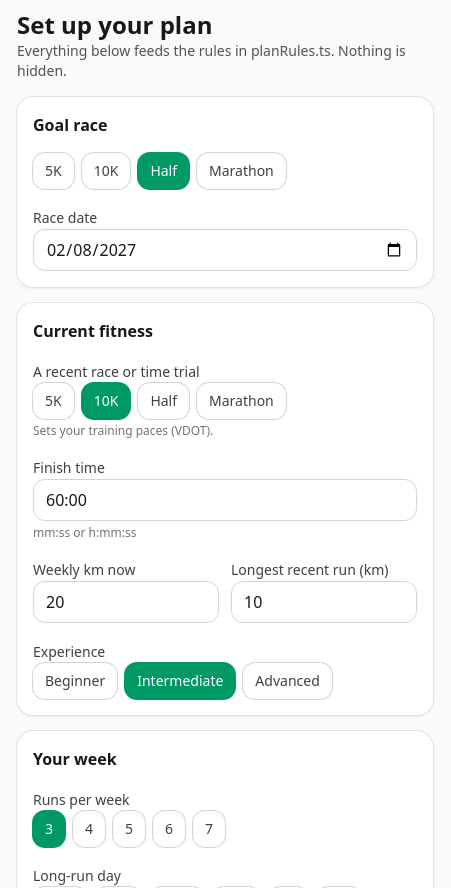
Scenario: first launch › blocks invalid input with a readable message
The width and height of the screenshot is (451, 888).
Replace the text in the field labelled "Finish time mm:ss or h:mm:ss" with "fast" at (225, 500), box x1=33 y1=479 x2=417 y2=521
(page scrolled)
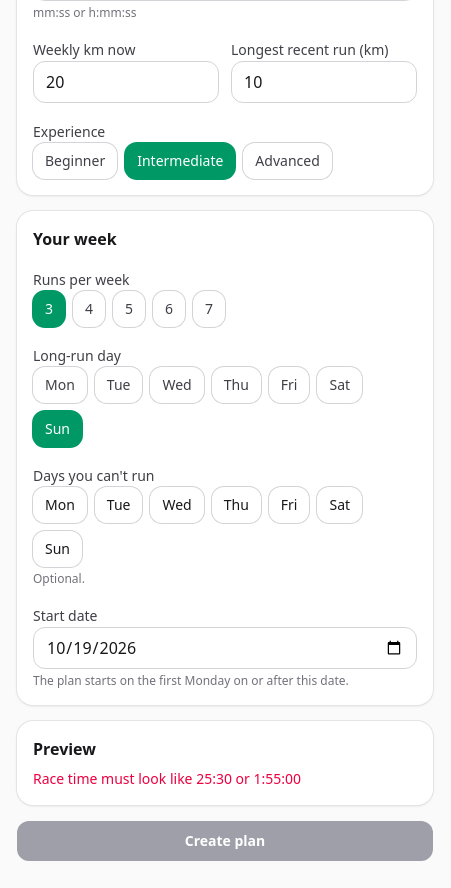
Expected: the message shows "Race time must look like", x1=33 y1=769 x2=301 y2=788
Expected: the button "Create plan" is disabled, x1=17 y1=821 x2=433 y2=861
